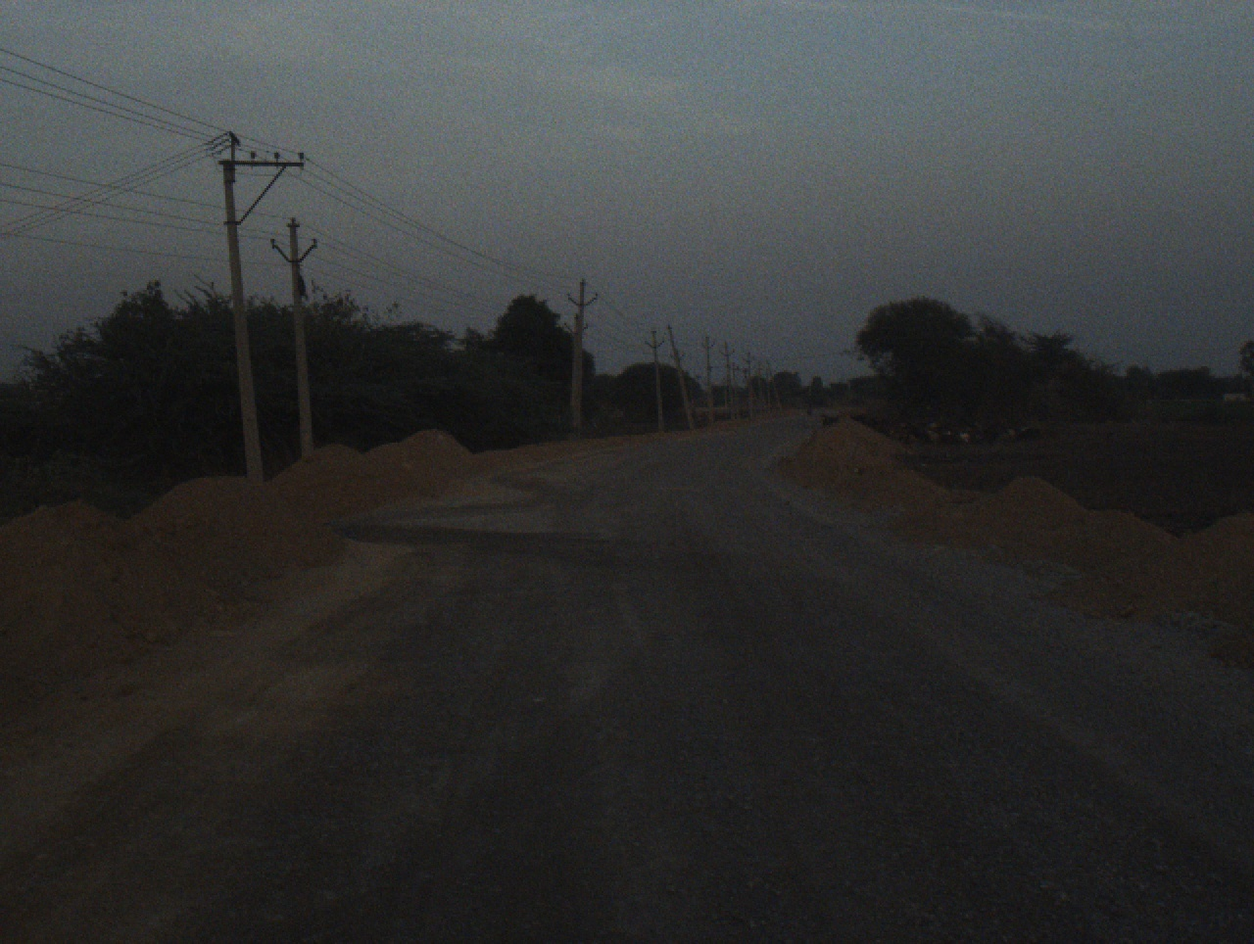animal: (924, 412, 989, 448), (856, 411, 915, 441), (989, 416, 1040, 448), (819, 412, 837, 426)
